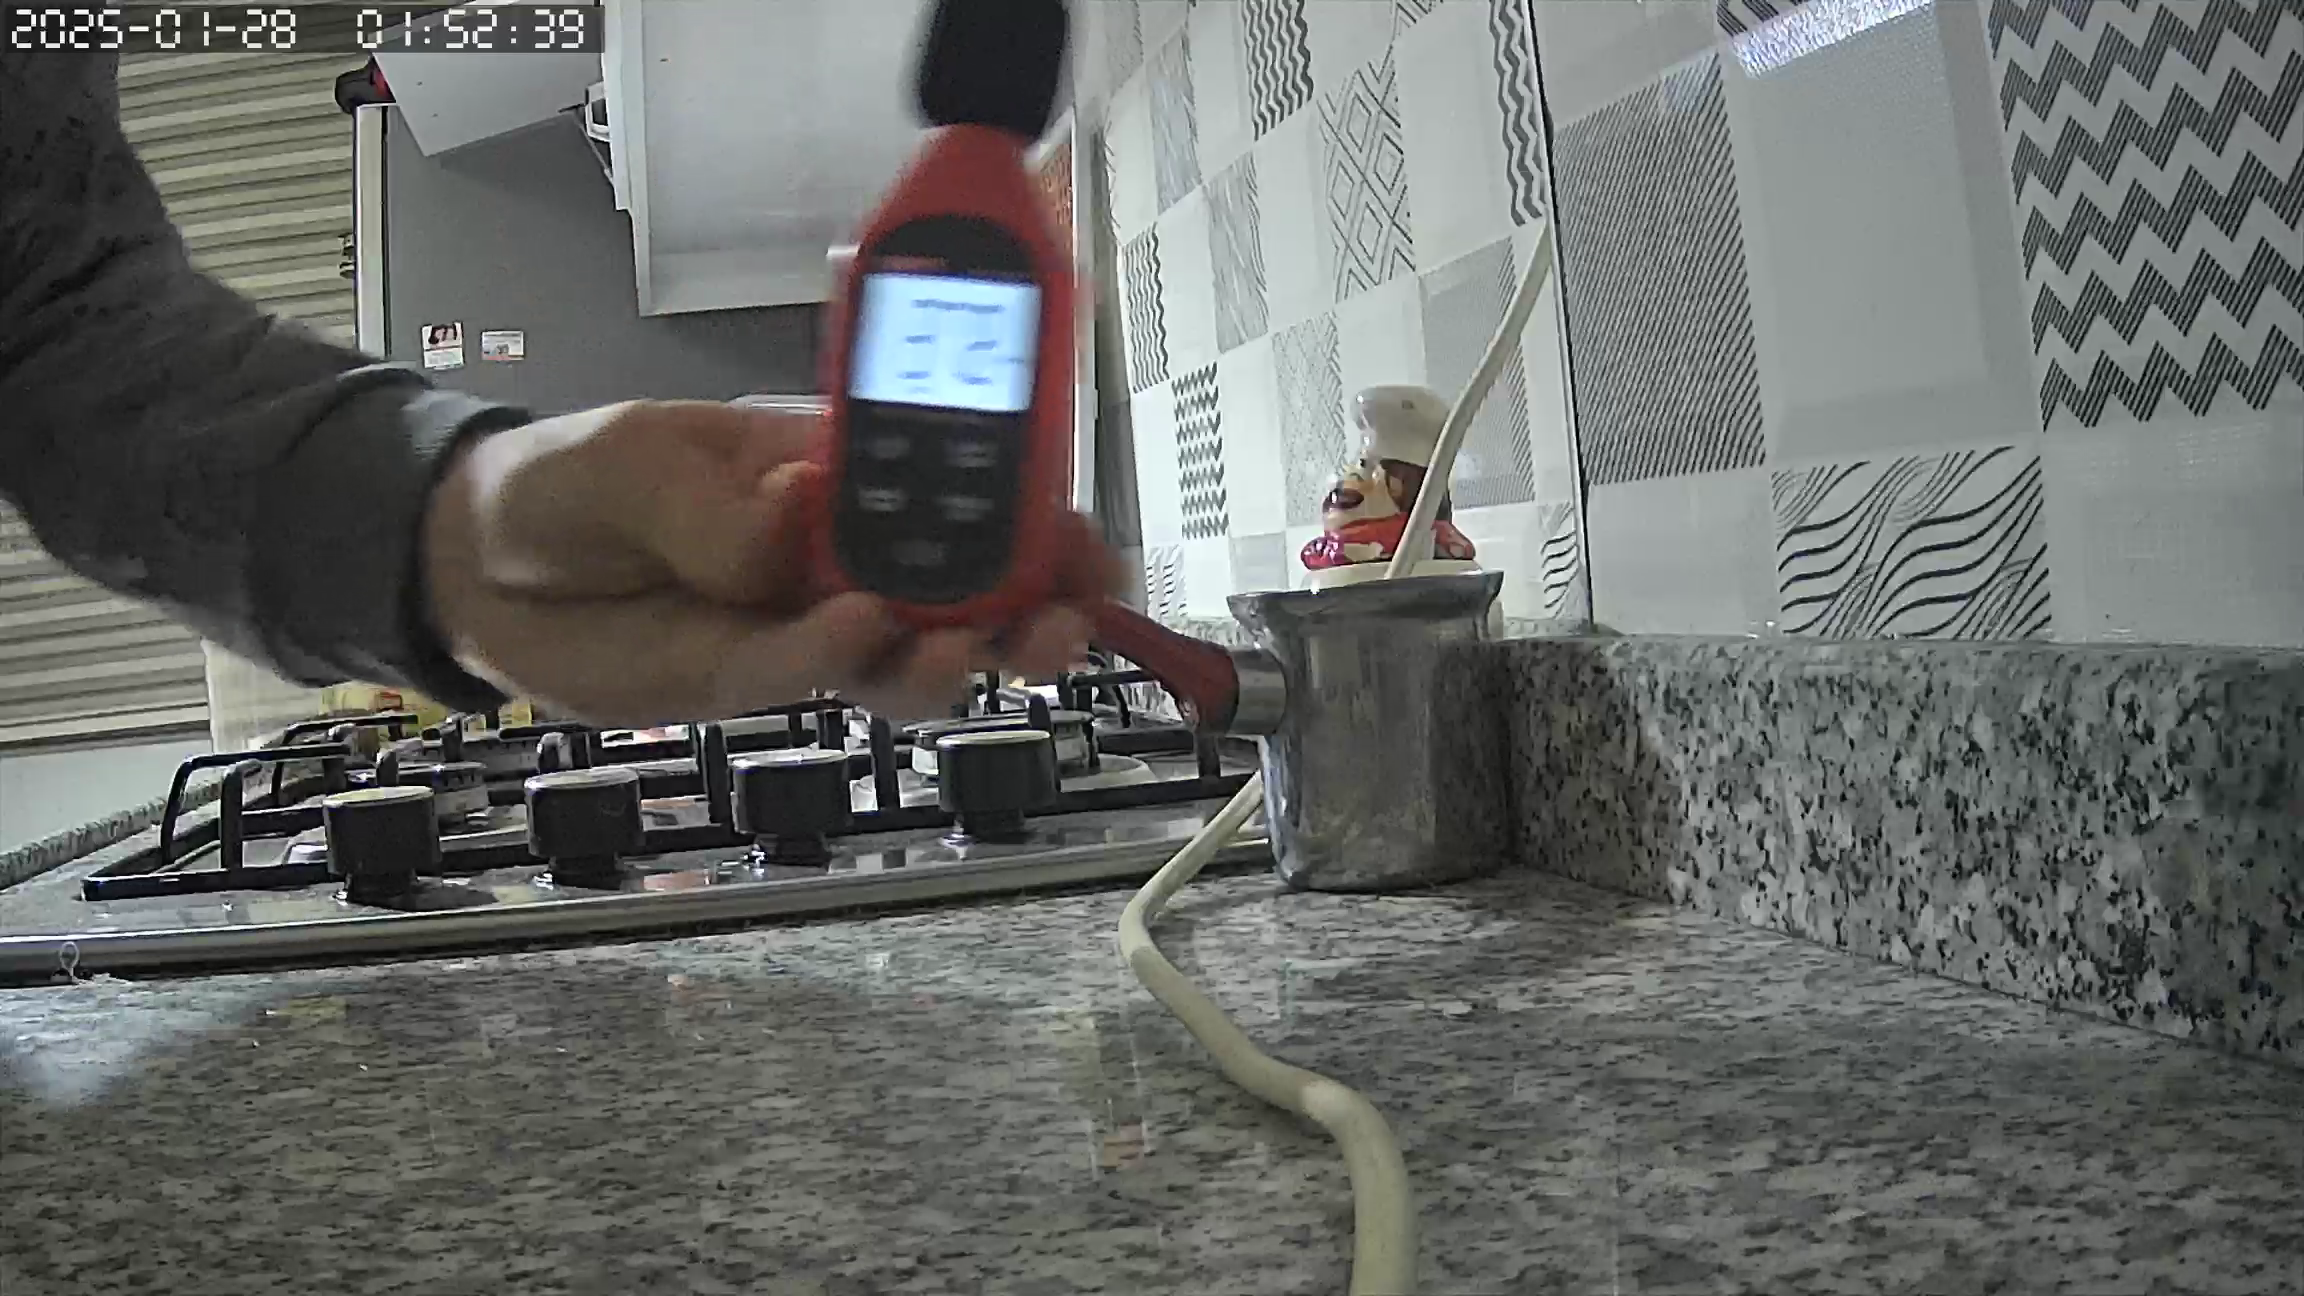screen: (848, 275, 1041, 411)
